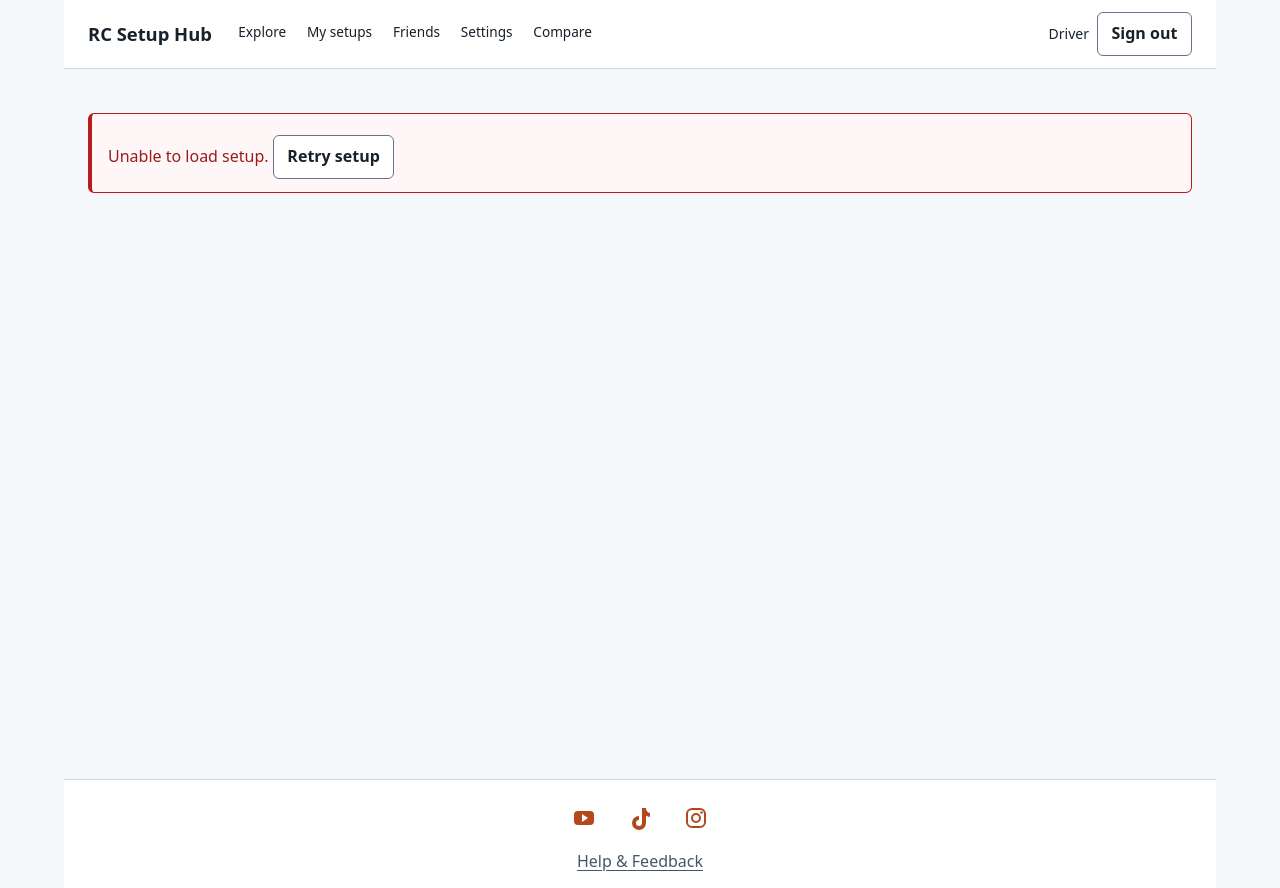
Test case: retries detail 500 failure
The width and height of the screenshot is (1280, 888).
What coordinates should you click on to do the following:
click the button "Retry setup"
I would click on:
 (334, 157)
Its box is [273,135,394,179].
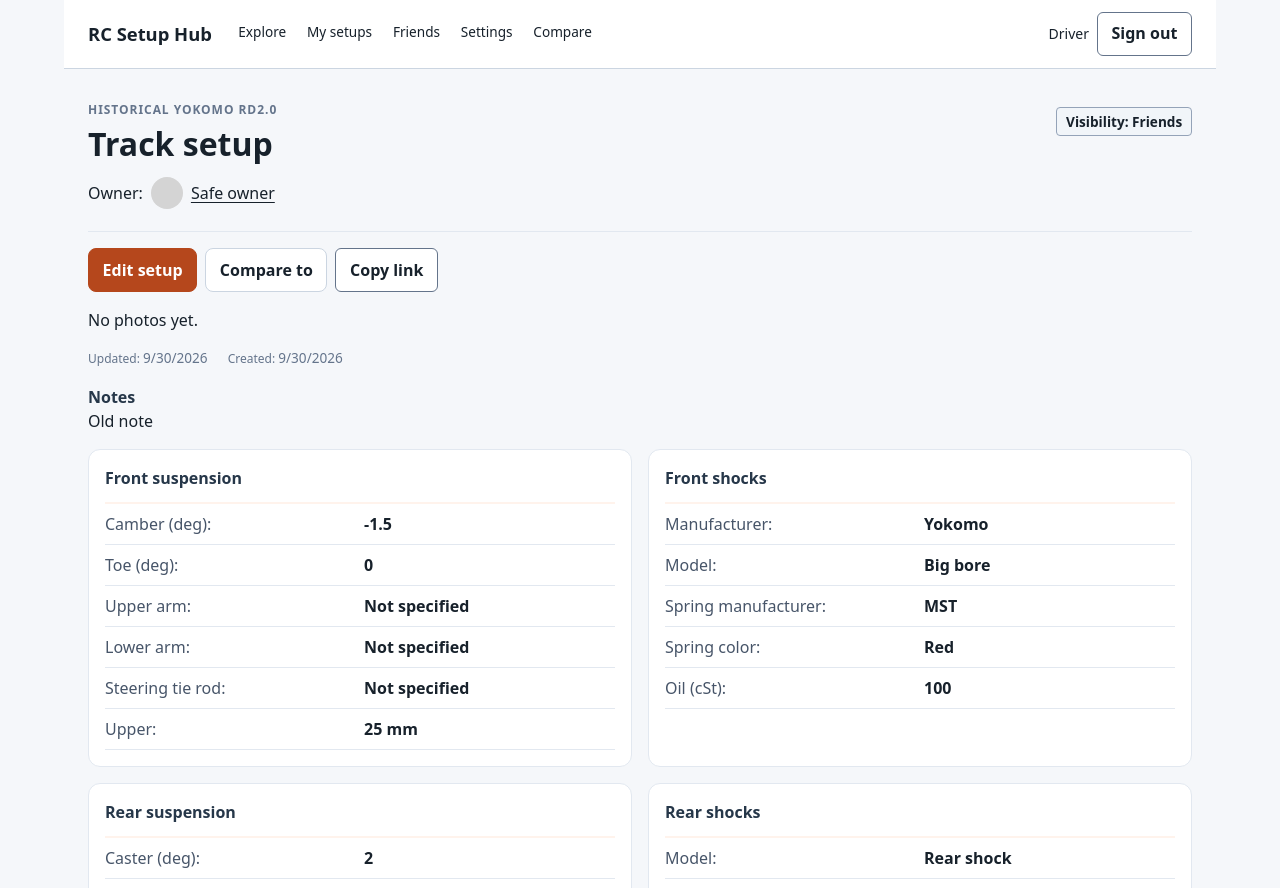
Result: the heading "Track setup" is shown at [88,125,277,163]
